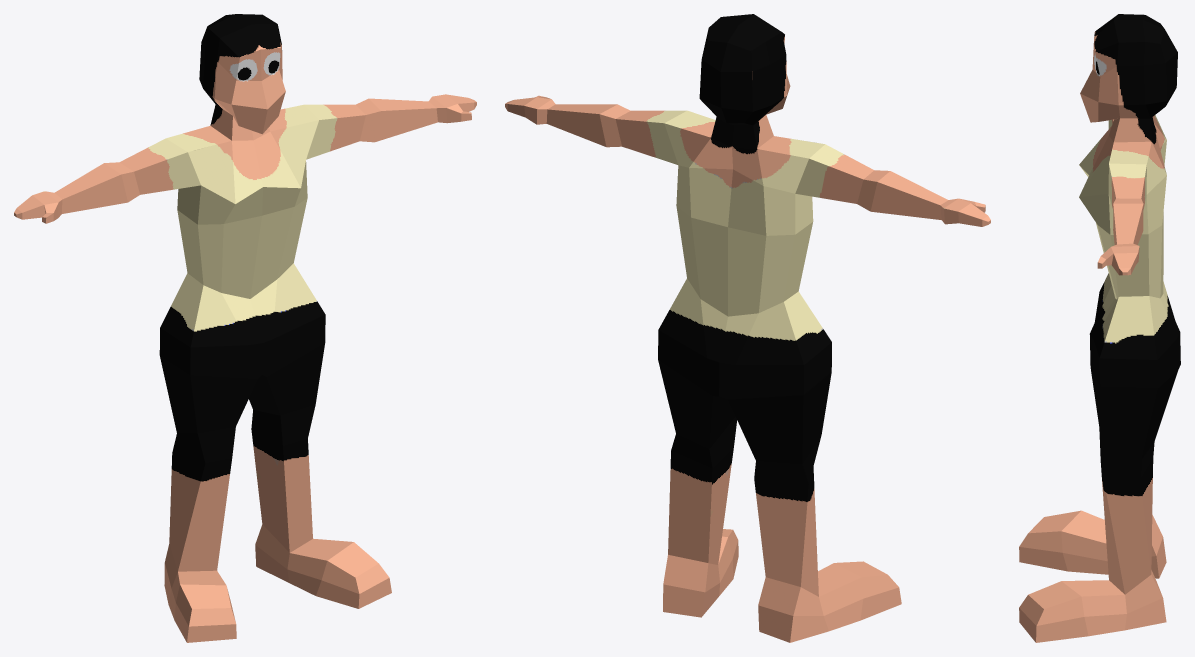
Rendered from Female.fbx.
The picture shows the model from 3 angles, left to right: view 1: azimuth 30°, elevation 25°; view 2: azimuth 150°, elevation 25°; view 3: azimuth 270°, elevation 25°; orthographic projection. The views are drawn at different scales.
Parts seen in each view (by area): view 1: HumanFemale; view 2: HumanFemale; view 3: HumanFemale.
Boxes of the visible parts, left/top/right/bottom form: HumanFemale: left=14, top=14, right=476, bottom=642; HumanFemale: left=505, top=14, right=990, bottom=642; HumanFemale: left=1019, top=14, right=1180, bottom=642.
Size of the model in its own units: 1314 by 1542 by 395.
1 material, 1 textured.
